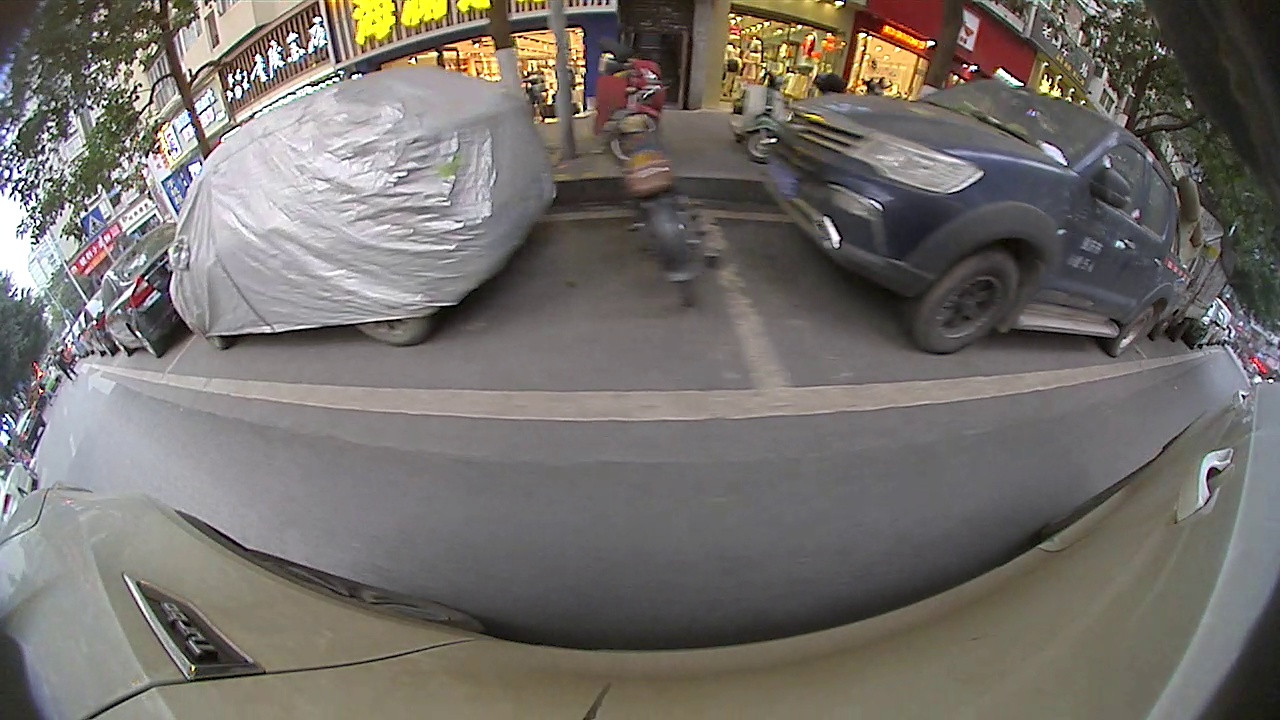car: (759, 73, 1216, 360), (166, 59, 553, 356), (97, 215, 190, 364)
front: (915, 243, 1014, 355)
rear: (1114, 296, 1160, 357)
rider: (587, 54, 724, 313)
